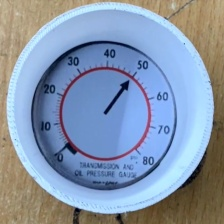gauge: (32, 42, 177, 189)
